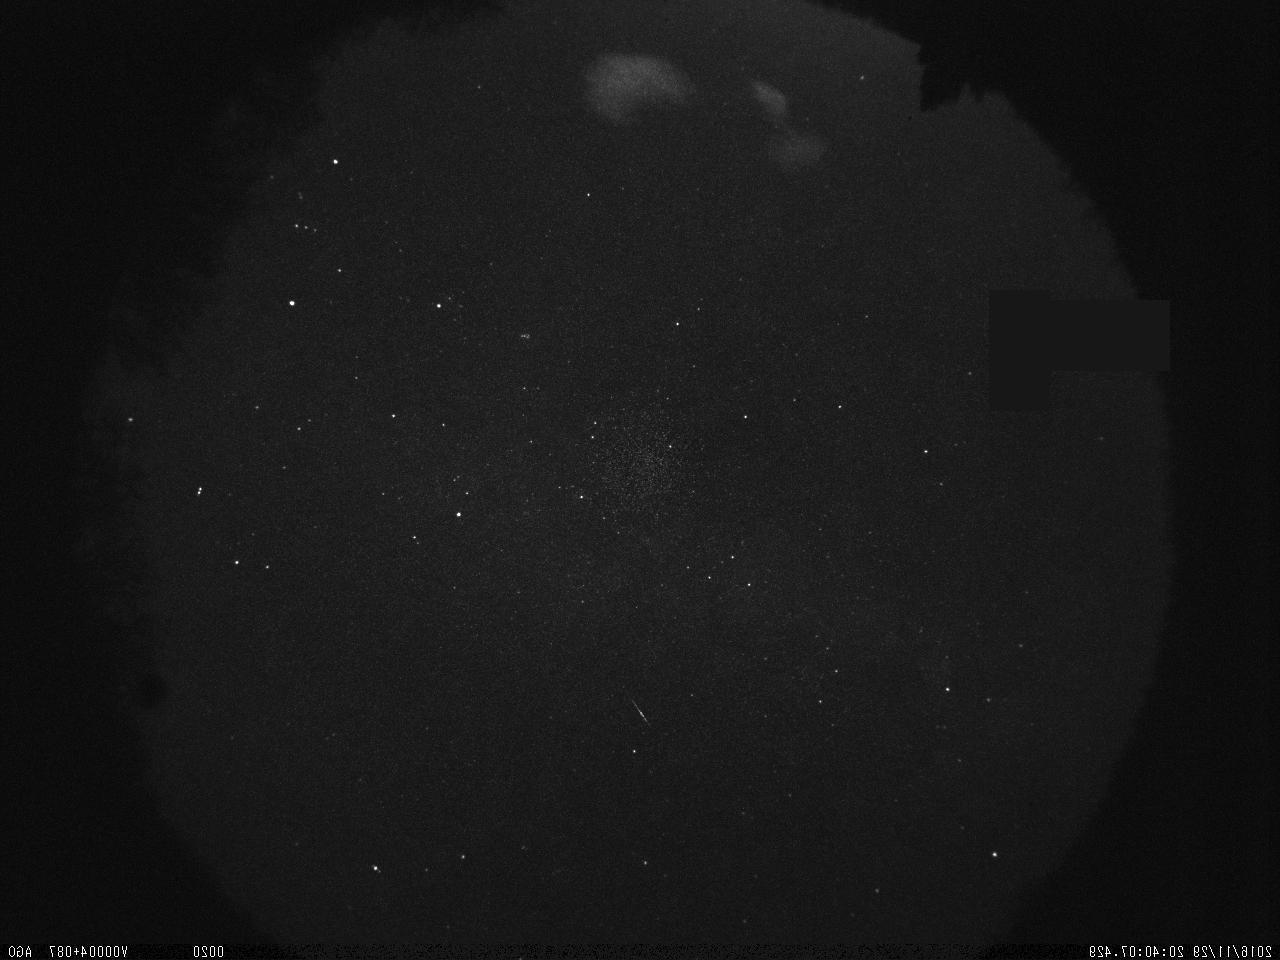meteor: (624, 694, 654, 727)
